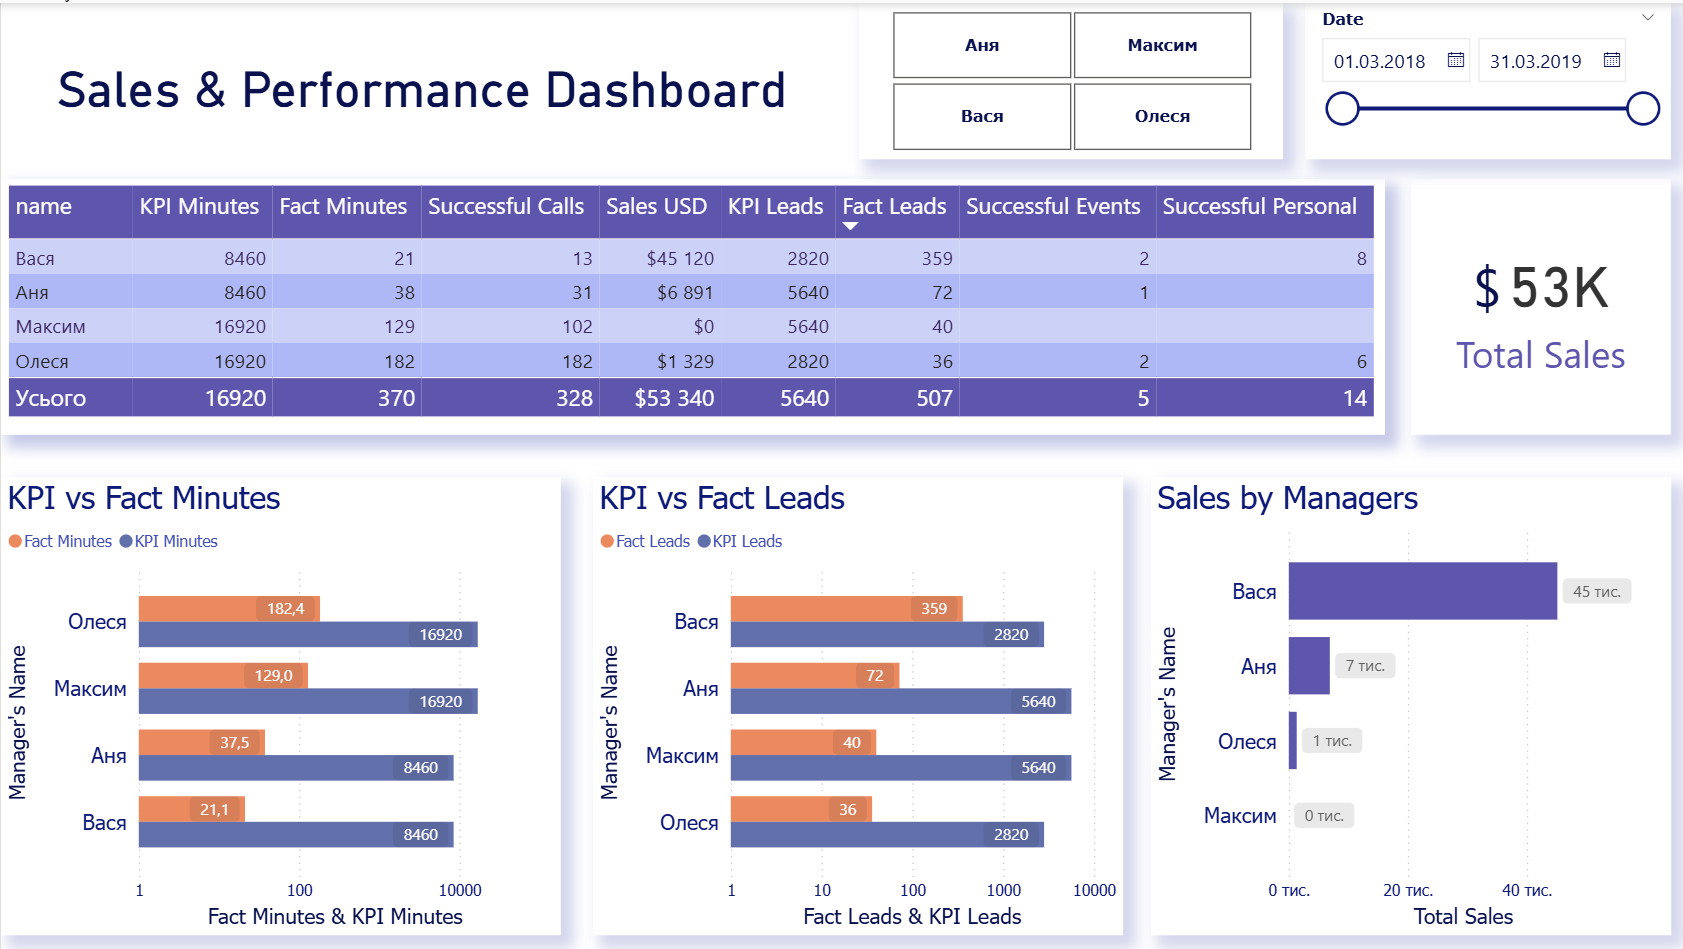

Layout of this report page (visuals, bound fields, positions):
{"tool":"powerbi","page":{"name":"Сторінка 1","canvas":[1280,720],"ordinal":0},"visuals":[{"type":"tableEx","fields":{"Values":["dim_users.name","_Measures.KPI Minutes","_Measures.Fact Minutes","_Measures.Successful Calls","_Measures.Sales USD","_Measures.KPI Leads","_Measures.Fact Leads","_Measures.Successful Events","_Measures.Successful Personal"]},"box":[0,133.5,1049.5,194.1],"z":0},{"type":"clusteredBarChart","title":"KPI vs Fact Minutes","fields":{"Category":["dim_users.name"],"Y":["_Measures.Fact Minutes","_Measures.KPI Minutes"]},"box":[0,359.4,424.6,347.3],"z":1000},{"type":"clusteredBarChart","title":"KPI vs Fact Leads","fields":{"Category":["dim_users.name"],"Y":["_Measures.Fact Leads","_Measures.KPI Leads"]},"box":[448.9,359.4,401.9,347.3],"z":2000},{"type":"clusteredBarChart","title":"Sales by Managers","fields":{"Category":["dim_users.name"],"Y":["_Measures.Sales USD"]},"box":[872,359.4,394.3,347.3],"z":3000},{"type":"advanceCardE03760C5AB684758B56AA29F9E6C257B","title":"KPI vs Fact Leads","fields":{"mainMeasure":["_Measures.Sales USD"]},"box":[1069.2,133.5,197.2,194.1],"z":4000},{"type":"slicer","title":"KPI vs Fact Leads","fields":{"Values":["dim_calendar.Date"]},"box":[988.8,0,277.5,118.3],"z":5000},{"type":"slicer","title":"KPI vs Fact Leads","fields":{"Values":["dim_users.name"]},"box":[650.6,0,321.5,118.3],"z":6000},{"type":"textbox","box":[10.6,37.9,617.3,80.4],"z":7000}]}

Visuals, with their boxes in screenshot pixels (x1, y1, x2, y2), scaled from the page's 1280x720 canvas onto the 1683x949 screenshot:
tableEx - dim_users.name x _Measures.KPI Minutes: left=0, top=176, right=1380, bottom=432
"KPI vs Fact Minutes" clusteredBarChart: left=0, top=474, right=558, bottom=931
"KPI vs Fact Leads" clusteredBarChart: left=590, top=474, right=1119, bottom=931
"Sales by Managers" clusteredBarChart: left=1147, top=474, right=1665, bottom=931
"KPI vs Fact Leads" advanceCardE03760C5AB684758B56AA29F9E6C257B: left=1406, top=176, right=1665, bottom=432
"KPI vs Fact Leads" slicer: left=1300, top=0, right=1665, bottom=156
"KPI vs Fact Leads" slicer: left=855, top=0, right=1278, bottom=156
textbox: left=14, top=50, right=826, bottom=156
